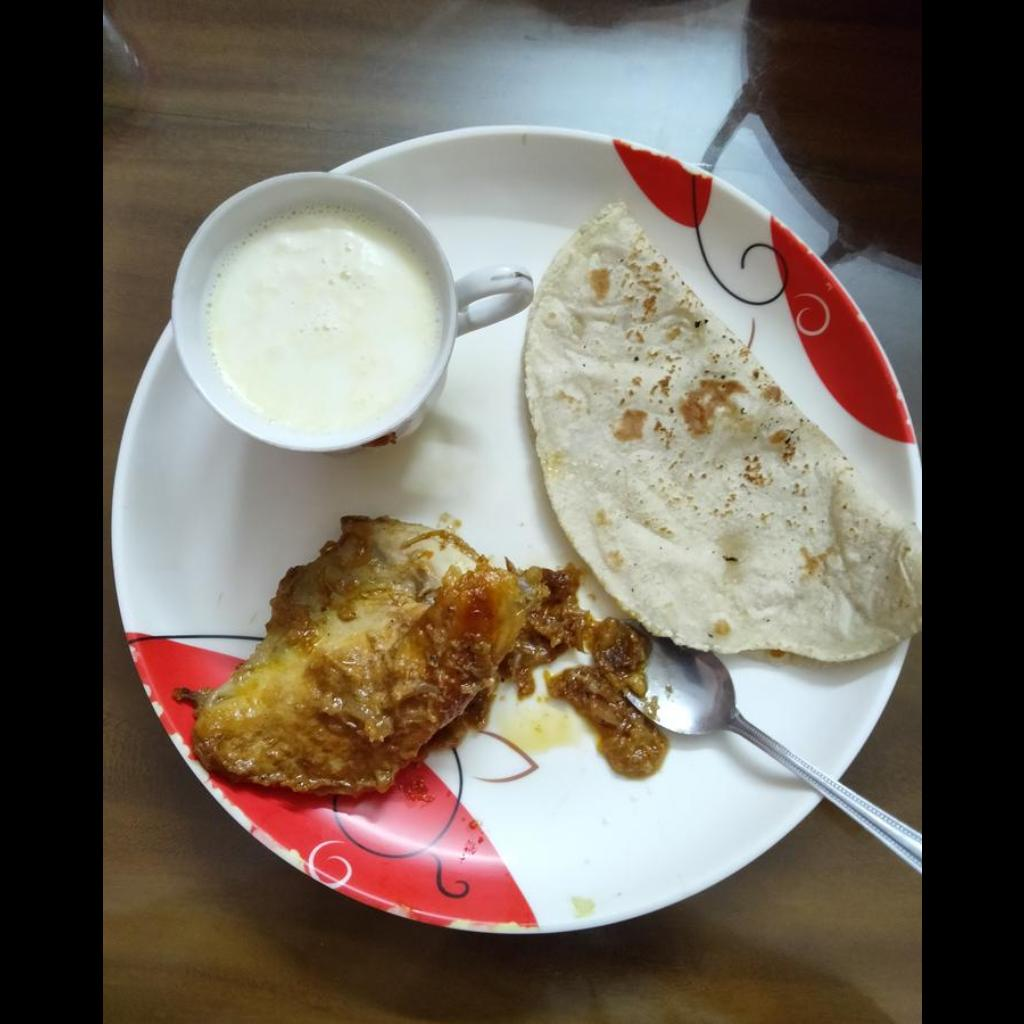achar: (186, 513, 670, 799)
milk: (206, 211, 433, 442)
ruti: (528, 203, 920, 666)
